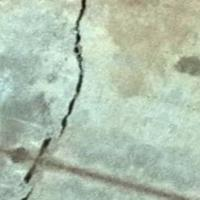crack: (2, 0, 96, 199)
